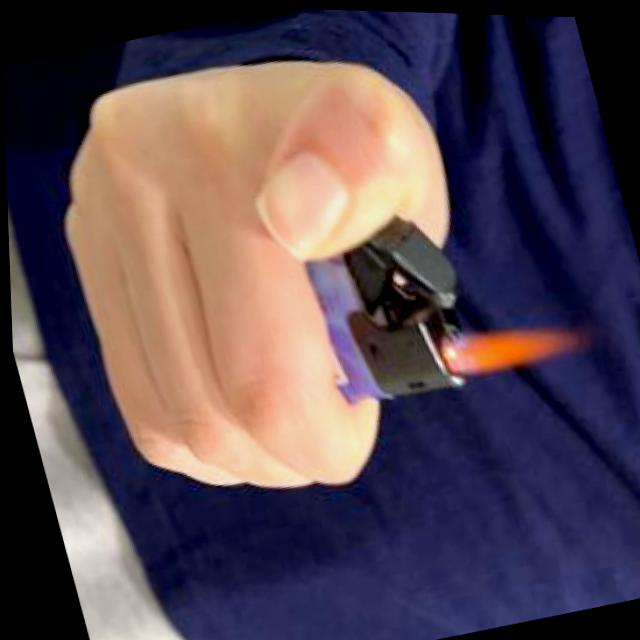fire: (431, 303, 593, 378)
